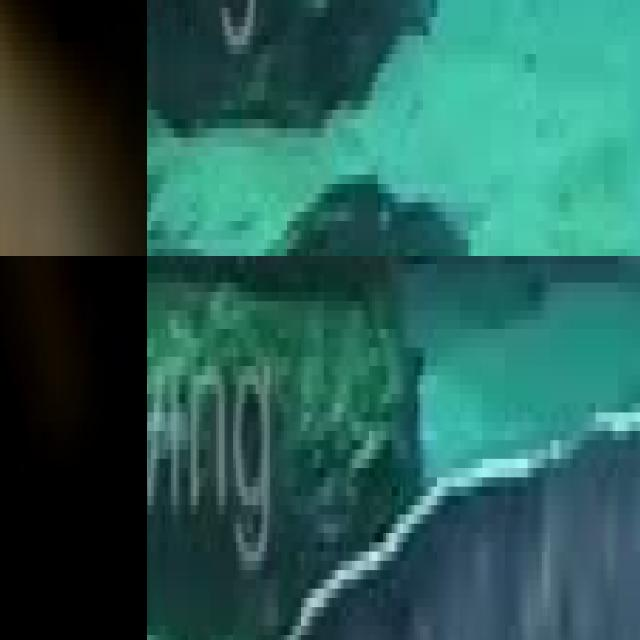fish: (0, 256, 147, 640), (0, 0, 147, 256)
